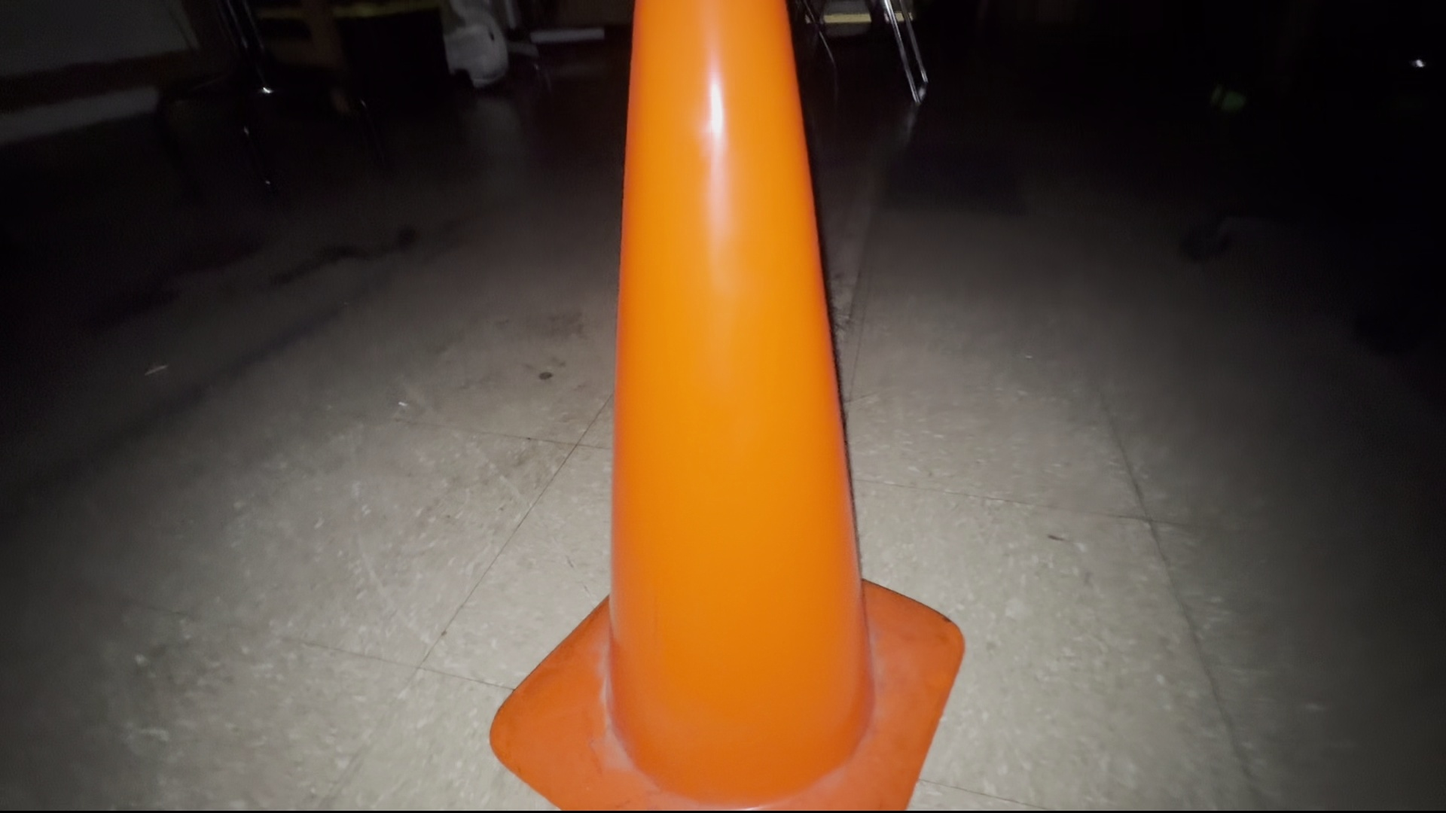traffic_cone: (488, 1, 966, 811)
